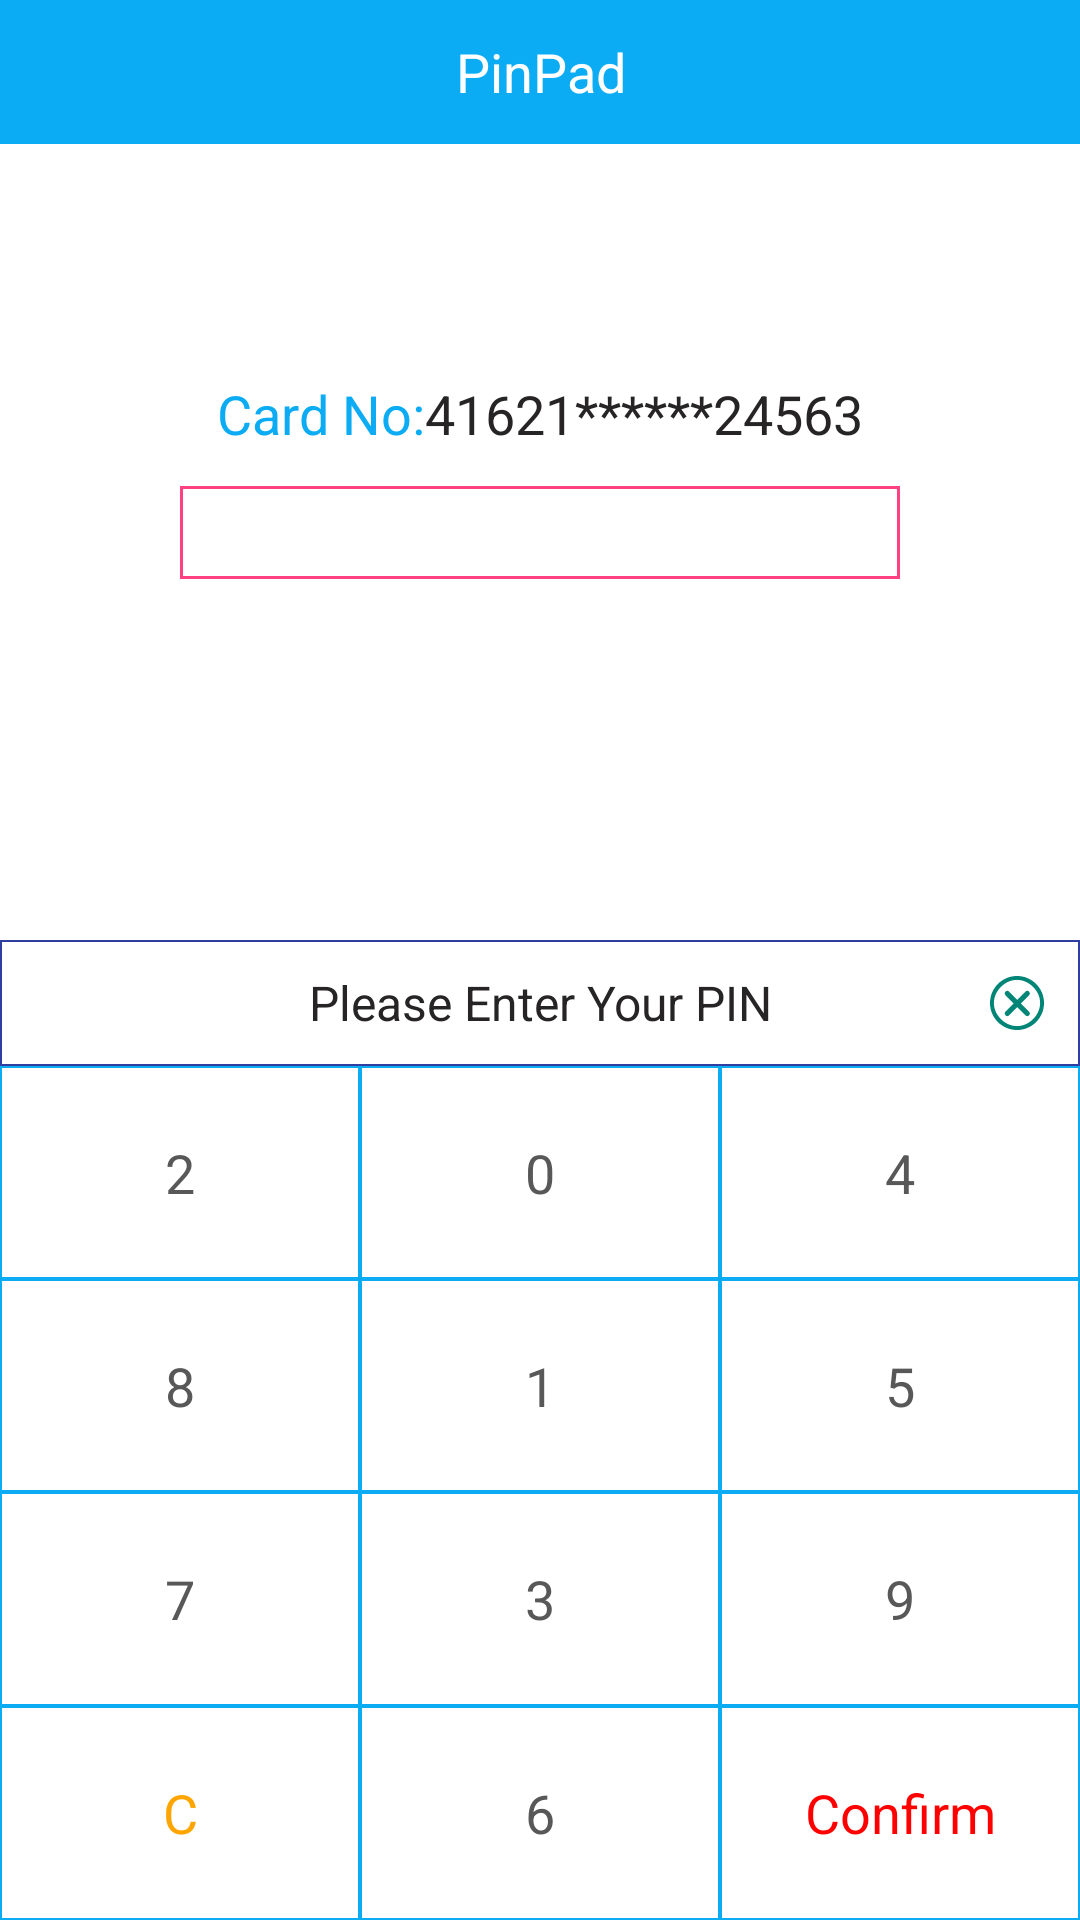

Screen size 1080x1920. Icon name, then its center in pixels as point (x, y):
cancel: point (1017, 1003)
